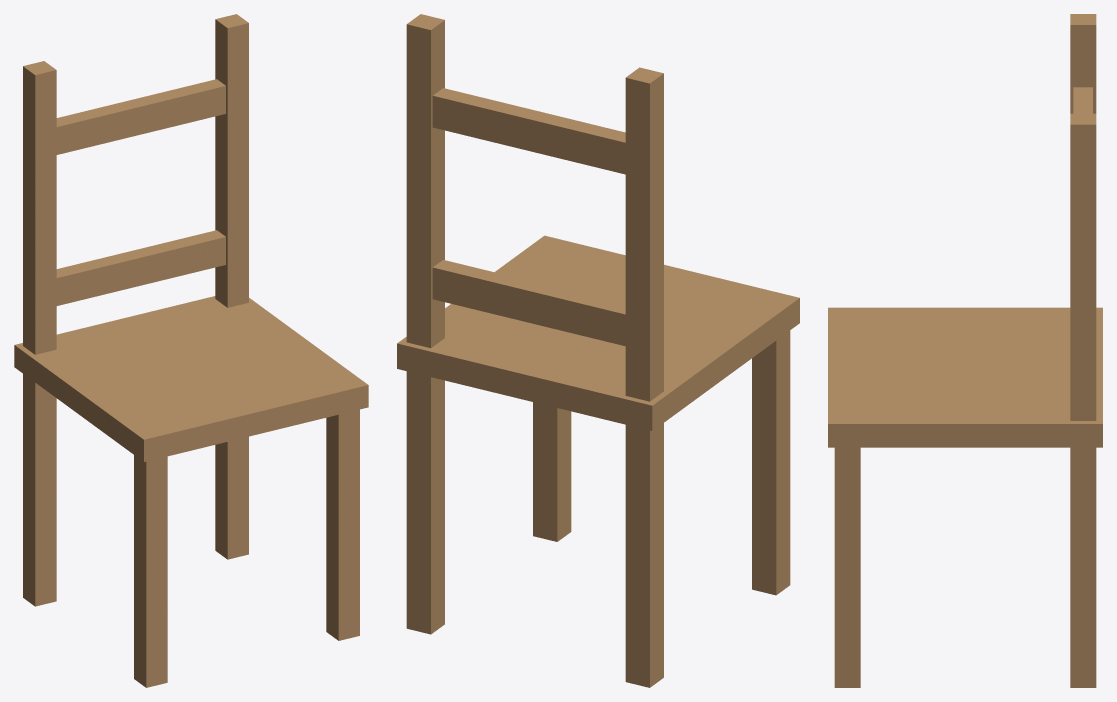
Rendered from wood_chair.glb.
3 views of the same model, side by side, from view 1: azimuth 30°, elevation 25°; view 2: azimuth 150°, elevation 25°; view 3: azimuth 270°, elevation 25° (orthographic). The views are drawn at different scales.
Parts seen in each view (by area): view 1: WoodChair; view 2: WoodChair; view 3: WoodChair.
Part boxes in pixels (box(x1,y1,x2,y2)): WoodChair: box(14, 14, 368, 687); WoodChair: box(397, 14, 799, 687); WoodChair: box(828, 14, 1102, 687).
Bounding box in the file's own units: 0.42 × 0.95 × 0.42.
